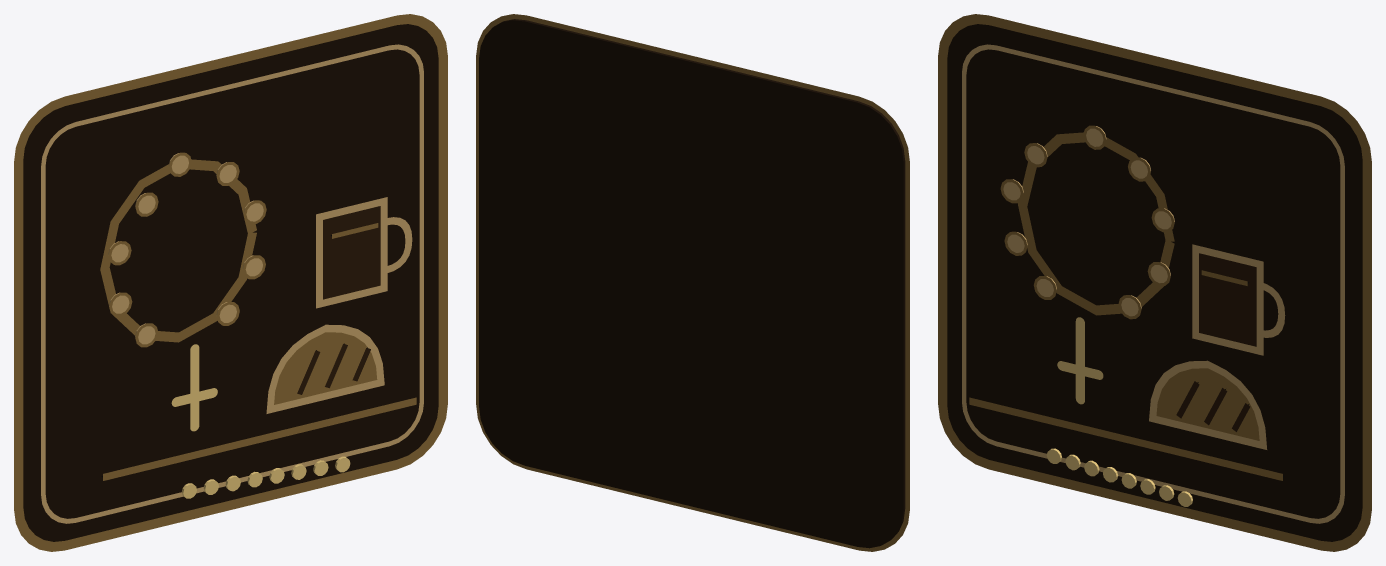
The model's file is gate-3-ascetic.glb.
The picture shows the model from 3 angles, left to right: view 1: azimuth 30°, elevation 25°; view 2: azimuth 150°, elevation 25°; view 3: azimuth 330°, elevation 25°; orthographic projection.
Parts seen in each view (by area): view 1: gate-3-ascetic; view 2: gate-3-ascetic; view 3: gate-3-ascetic.
Boxes of the visible parts, <box> form: gate-3-ascetic: <box>14,14,447,551</box>; gate-3-ascetic: <box>476,14,909,551</box>; gate-3-ascetic: <box>938,14,1371,551</box>.
Bounding box in the file's own units: 1.18 × 1.18 × 0.2025.
